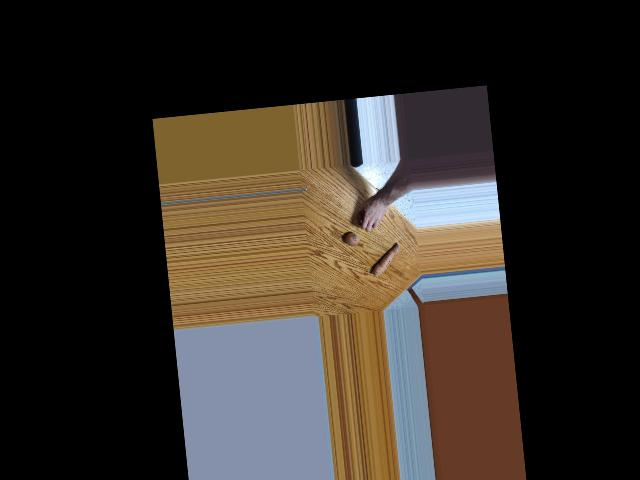onion: (356, 208, 373, 225)
